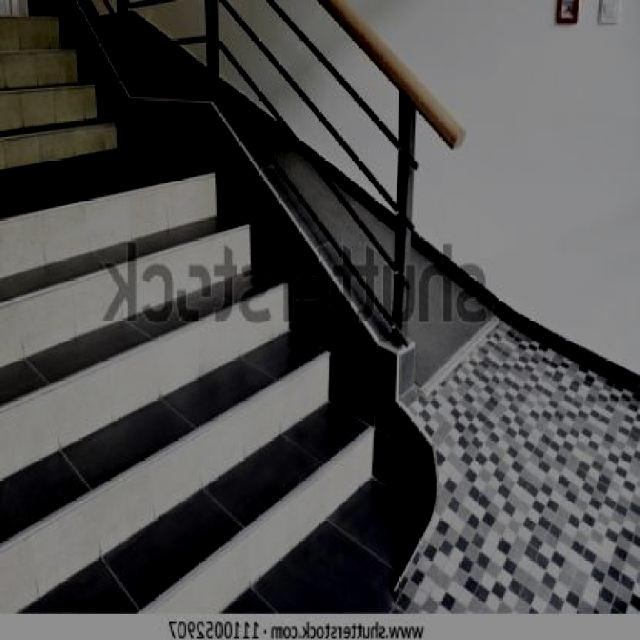stair: (1, 0, 403, 612)
